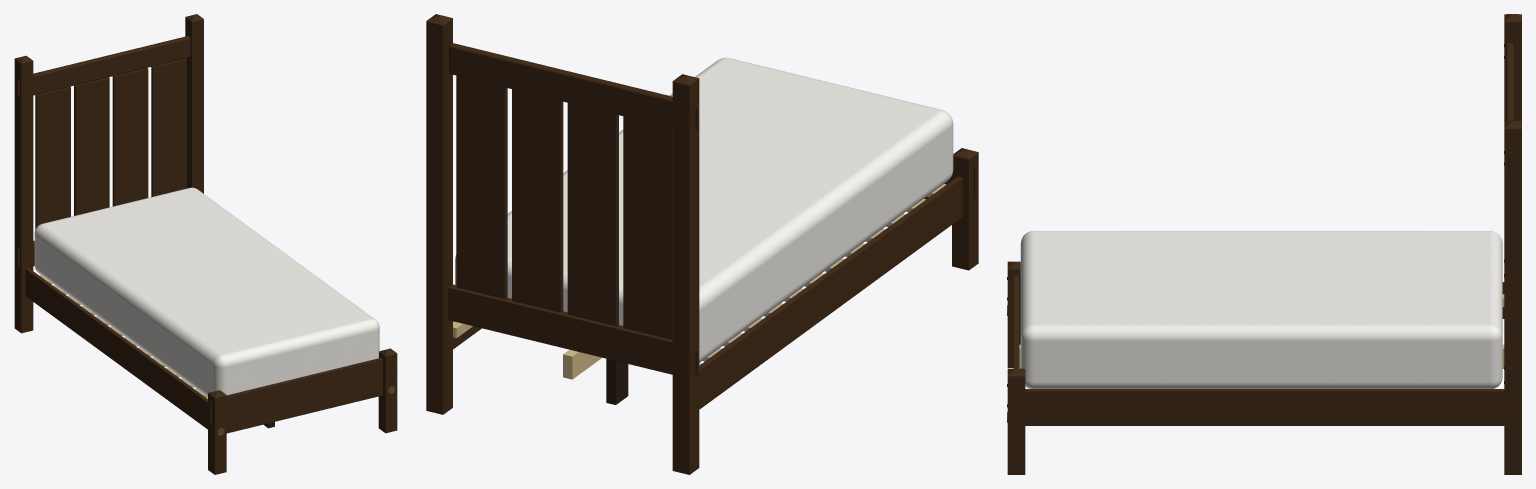
The model's file is bed-frame-twin-bare.glb.
3 views of the same model, side by side, from view 1: azimuth 30°, elevation 25°; view 2: azimuth 150°, elevation 25°; view 3: azimuth 270°, elevation 25° (orthographic). The views are drawn at different scales.
Visible parts, largest first — view 1: Bed mattress, Bed foot rail, Bed side rail L, Bed headboard post L, Bed headboard slat 3, Bed headboard slat 1, Bed headboard slat 4, Bed headboard slat 2, Bed headboard rail top, Bed headboard post R, Bed foot leg L, Bed foot leg R; view 2: Bed mattress, Bed side rail L, Bed headboard slat 4, Bed headboard slat 3, Bed headboard slat 2, Bed headboard post L, Bed headboard slat 1, Bed headboard post R, Bed headboard rail bottom, Bed headboard rail top, Bed foot leg L, Bed center leg 3 (+1 smaller); view 3: Bed mattress, Bed side rail R, Bed headboard post R, Bed foot leg R, Bed headboard post L, Bed foot leg L, Bed foot rail, Bed headboard rail top.
Boxes of the visible parts, x1,y1,x2,y2 form: Bed mattress: (34, 187, 379, 396); Bed foot rail: (226, 358, 382, 433); Bed side rail L: (25, 268, 207, 429); Bed headboard post L: (14, 59, 33, 333); Bed headboard slat 3: (112, 68, 148, 206); Bed headboard slat 1: (35, 86, 70, 229); Bed headboard slat 4: (151, 58, 186, 196); Bed headboard slat 2: (74, 77, 109, 215); Bed headboard rail top: (33, 36, 190, 95); Bed headboard post R: (185, 17, 203, 193); Bed foot leg L: (208, 393, 226, 474); Bed foot leg R: (378, 352, 397, 433); Bed mattress: (455, 57, 953, 362); Bed side rail L: (699, 176, 962, 409); Bed headboard slat 4: (456, 75, 507, 298); Bed headboard slat 3: (512, 89, 563, 312); Bed headboard slat 2: (567, 103, 618, 326); Bed headboard post L: (672, 79, 699, 474); Bed headboard slat 1: (623, 116, 672, 339); Bed headboard post R: (426, 18, 452, 414); Bed headboard rail bottom: (448, 284, 672, 374); Bed headboard rail top: (449, 43, 672, 128); Bed foot leg L: (952, 152, 978, 270); Bed center leg 3: (606, 358, 628, 404); Bed mattress: (1020, 231, 1502, 388); Bed side rail R: (1025, 389, 1504, 425); Bed headboard post R: (1504, 128, 1521, 474); Bed foot leg R: (1007, 376, 1025, 474); Bed headboard post L: (1504, 21, 1521, 120); Bed foot leg L: (1007, 269, 1020, 367); Bed foot rail: (1013, 275, 1019, 368); Bed headboard rail top: (1506, 43, 1513, 120).
Size of the model in its own units: 1.09 by 1.53 by 2.04.
9 materials, 1 textured.
